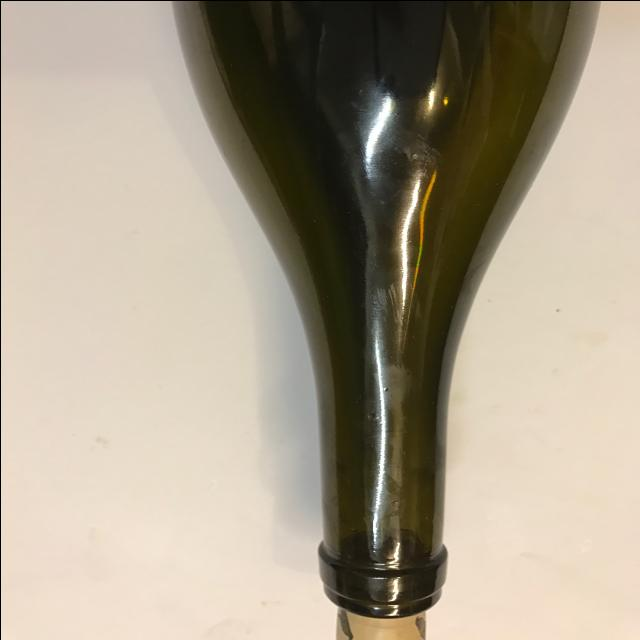glass: (176, 7, 602, 640)
